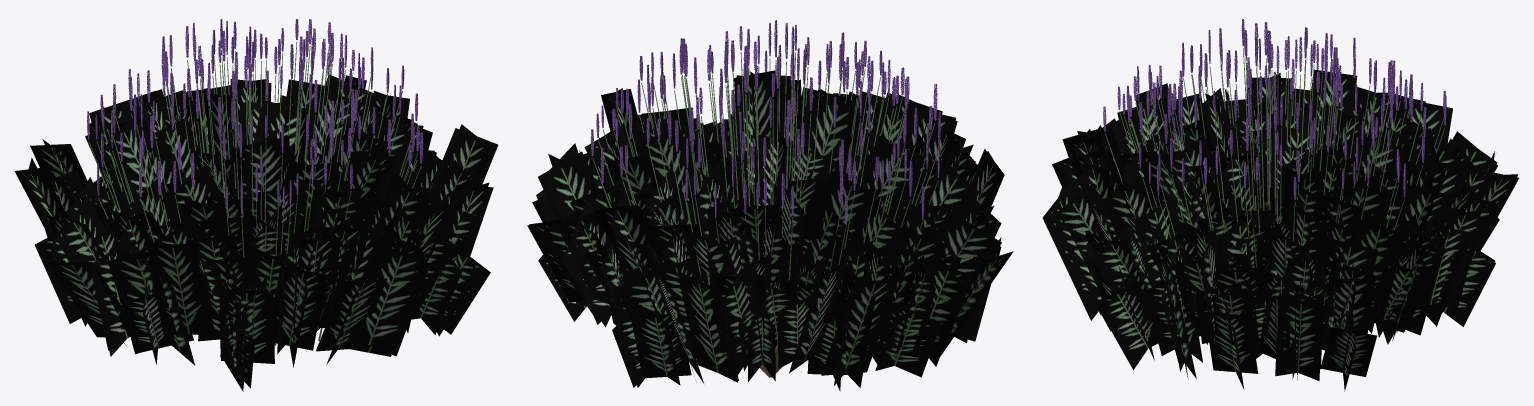
File: lavender-bush.glb
The picture shows the model from 3 angles, left to right: view 1: azimuth 30°, elevation 25°; view 2: azimuth 150°, elevation 25°; view 3: azimuth 270°, elevation 25°; orthographic projection. The views are drawn at different scales.
Visible parts, largest first — view 1: lavender_foliage, lavender_flowers, lavender_stems; view 2: lavender_foliage, lavender_flowers, lavender_stems; view 3: lavender_foliage, lavender_flowers, lavender_stems.
Boxes of the visible parts, x1=… form: lavender_foliage: x1=14, y1=75, x2=498, y2=391; lavender_flowers: x1=87, y1=19, x2=423, y2=214; lavender_stems: x1=88, y1=42, x2=421, y2=345; lavender_foliage: x1=527, y1=70, x2=1013, y2=391; lavender_flowers: x1=590, y1=20, x2=940, y2=224; lavender_stems: x1=592, y1=52, x2=938, y2=358; lavender_foliage: x1=1042, y1=69, x2=1519, y2=391; lavender_flowers: x1=1103, y1=19, x2=1446, y2=200; lavender_stems: x1=1104, y1=48, x2=1444, y2=241.
Size of the model in its own units: 0.8 by 0.6 by 0.8.
4 materials, 2 textured.
